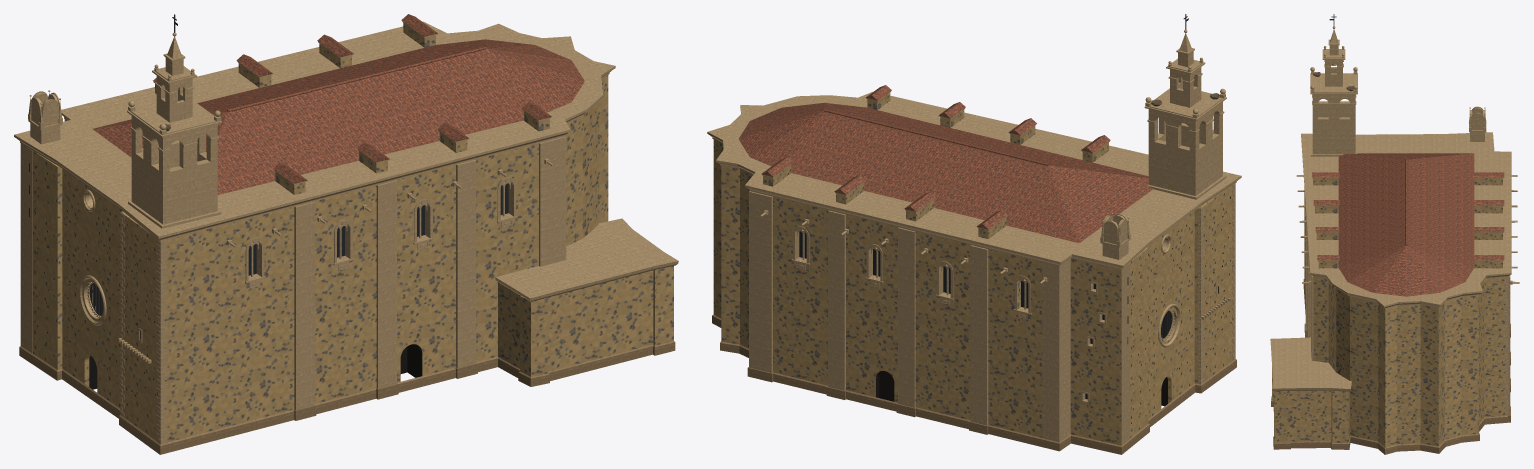
The model's file is iglesia.glb.
The picture shows the model from 3 angles, left to right: view 1: azimuth 30°, elevation 25°; view 2: azimuth 150°, elevation 25°; view 3: azimuth 270°, elevation 25°; orthographic projection. The views are drawn at different scales.
Visible parts, largest first — view 1: mamposteria, silleria, teja, zocalo, vidrio; view 2: mamposteria, silleria, teja, zocalo, vidrio; view 3: mamposteria, silleria, teja, zocalo.
Part boxes in pixels (x1,y1,x2,y2): mamposteria: [29, 23, 673, 442]; silleria: [14, 21, 678, 444]; teja: [92, 14, 584, 194]; zocalo: [19, 341, 675, 454]; vidrio: [92, 183, 508, 314]; mamposteria: [713, 92, 1233, 445]; silleria: [707, 30, 1241, 445]; teja: [738, 85, 1153, 243]; zocalo: [712, 314, 1236, 454]; vidrio: [799, 231, 1162, 399]; mamposteria: [1272, 178, 1507, 447]; silleria: [1270, 26, 1519, 415]; teja: [1312, 153, 1504, 296]; zocalo: [1271, 279, 1510, 454].
Size of the model in its own units: 54.61 by 41.5 by 33.11.
10 materials, 5 textured.
